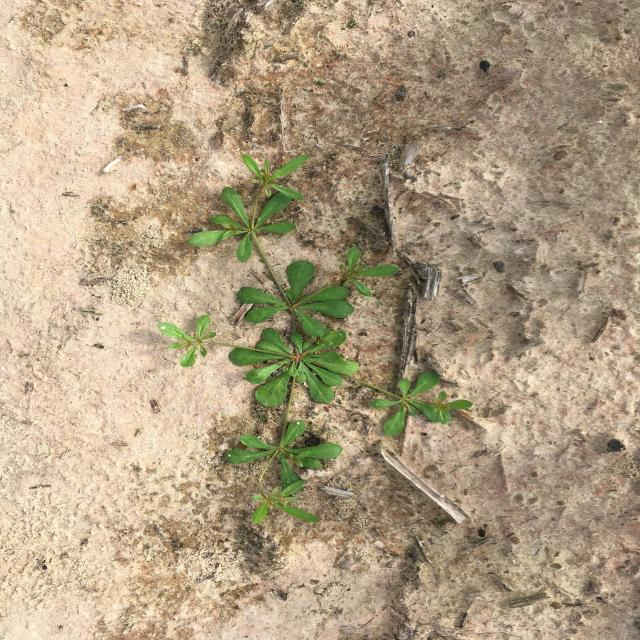Carpetweed: (158, 154, 474, 523)
